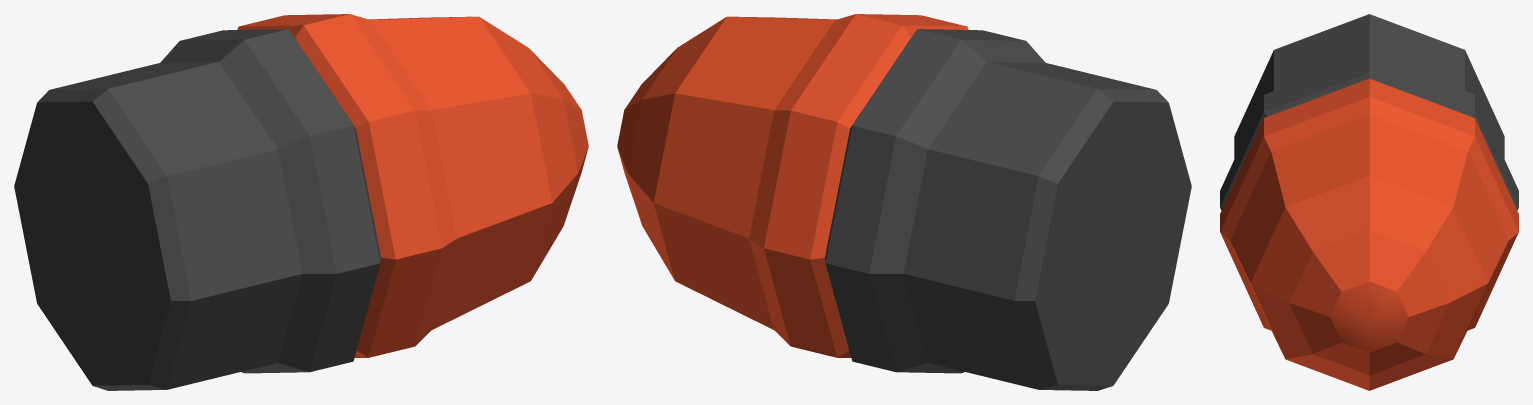
The model's file is lamp.fbx.
3 views of the same model, side by side, from view 1: azimuth 30°, elevation 25°; view 2: azimuth 150°, elevation 25°; view 3: azimuth 270°, elevation 25° (orthographic). The views are drawn at different scales.
Parts seen in each view (by area): view 1: pCylinder5; view 2: pCylinder5; view 3: pCylinder5.
Part boxes in pixels (x1,y1,x2,y2): pCylinder5: [14, 14, 588, 390]; pCylinder5: [617, 14, 1191, 390]; pCylinder5: [1220, 14, 1518, 390].
Size of the model in its own units: 1.73 by 1.13 by 1.13.
